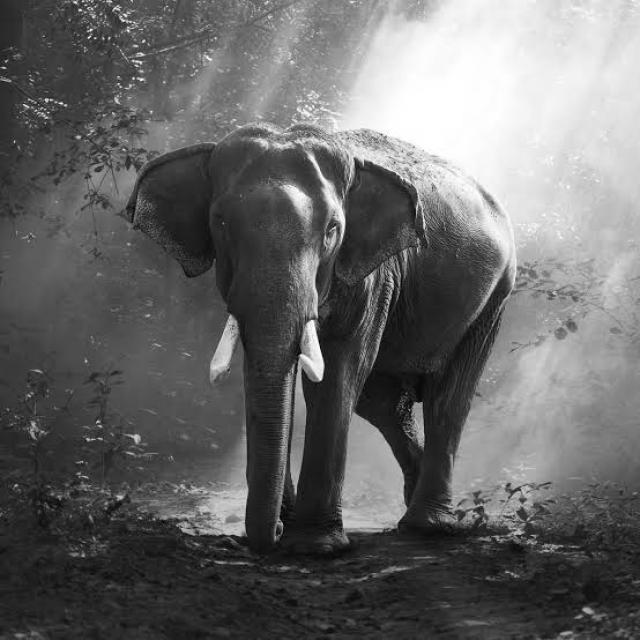Elephant: (123, 119, 518, 556)
